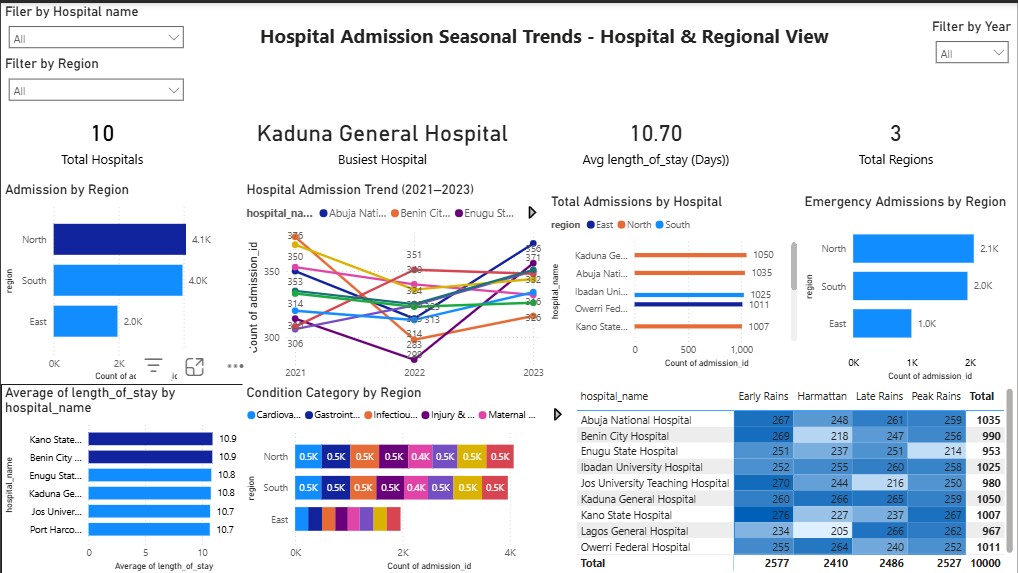

Layout of this report page (visuals, bound fields, positions):
{"tool":"powerbi","page":{"name":"HOSPITAL & REGIONAL VIEW","canvas":[1280,720],"ordinal":2},"visuals":[{"type":"textbox","box":[225.3,18.2,919.3,77.9],"z":0},{"type":"card","fields":{"Values":["hospital_admissions_dataset.Total Hospitals"]},"box":[16,131.5,224,80],"z":1000},{"type":"card","fields":{"Values":["hospital_admissions_dataset.Busiest Hospital"]},"box":[304,131.5,352,80],"z":2000},{"type":"card","fields":{"Values":["hospital_admissions_dataset.Total Regions"]},"box":[976,131.5,304,80],"z":3000},{"type":"card","fields":{"Values":["Avg(hospital_admissions_dataset.length_of_stay)"]},"box":[704,131.5,240,80],"z":4000},{"type":"clusteredBarChart","title":"Admission by Region","fields":{"Category":["hospital_admissions_dataset.region"],"Y":["CountNonNull(hospital_admissions_dataset.admission_id)"]},"box":[0,224,288,256],"z":5000},{"type":"clusteredBarChart","title":"Total Admissions  by Hospital","fields":{"Category":["hospital_admissions_dataset.hospital_name"],"Y":["CountNonNull(hospital_admissions_dataset.admission_id)"],"Series":["hospital_admissions_dataset.region"]},"box":[688,240,320,224],"z":6000},{"type":"pivotTable","fields":{"Rows":["hospital_admissions_dataset.hospital_name"],"Columns":["hospital_admissions_dataset.season"],"Values":["Count(hospital_admissions_dataset.admission_id)"]},"box":[720,480,560,240],"z":7000},{"type":"lineChart","title":"Hospital Admission Trend (2021–2023)","fields":{"Category":["hospital_admissions_dataset.year"],"Y":["CountNonNull(hospital_admissions_dataset.admission_id)"],"Series":["hospital_admissions_dataset.hospital_name"]},"box":[304,224,384,272],"z":8000},{"type":"clusteredBarChart","title":"Emergency Admissions by Region","fields":{"Category":["hospital_admissions_dataset.region"],"Y":["CountNonNull(hospital_admissions_dataset.admission_id)"]},"box":[1008,240,272,240],"z":9000},{"type":"clusteredBarChart","fields":{"Category":["hospital_admissions_dataset.hospital_name"],"Y":["Avg(hospital_admissions_dataset.length_of_stay)"]},"box":[0,480,320,240],"z":10000},{"type":"barChart","title":"Condition Category by Region","fields":{"Category":["hospital_admissions_dataset.region"],"Series":["hospital_admissions_dataset.condition_category"],"Y":["Count(hospital_admissions_dataset.admission_id)"]},"box":[304,480,416,240],"z":11000},{"type":"slicer","title":"Filter by Region","fields":{"Values":["hospital_admissions_dataset.region"]},"box":[0,66.1,240,64.3],"z":12000},{"type":"slicer","title":"Filter by Year","fields":{"Values":["hospital_admissions_dataset.year"]},"box":[1167.9,18.9,111.5,77.5],"z":13000},{"type":"slicer","title":"Filer by Hospital name","fields":{"Values":["hospital_admissions_dataset.hospital_name"]},"box":[0,0,240,64.3],"z":14000}]}

Visuals, with their boxes in screenshot pixels (x1, y1, x2, y2), scaled from the page's 1280x720 canvas onto the 1018x573 screenshot:
textbox: pyautogui.locateOnScreen(179, 14, 910, 76)
card - hospital_admissions_dataset.Total Hospitals: pyautogui.locateOnScreen(13, 105, 191, 168)
card - hospital_admissions_dataset.Busiest Hospital: pyautogui.locateOnScreen(242, 105, 522, 168)
card - hospital_admissions_dataset.Total Regions: pyautogui.locateOnScreen(776, 105, 1017, 168)
card - Avg(hospital_admissions_dataset.length_of_stay): pyautogui.locateOnScreen(560, 105, 751, 168)
"Admission by Region" clusteredBarChart: pyautogui.locateOnScreen(0, 178, 229, 382)
"Total Admissions  by Hospital" clusteredBarChart: pyautogui.locateOnScreen(547, 191, 802, 369)
pivotTable - hospital_admissions_dataset.hospital_name x hospital_admissions_dataset.season: pyautogui.locateOnScreen(573, 382, 1017, 572)
"Hospital Admission Trend (2021–2023)" lineChart: pyautogui.locateOnScreen(242, 178, 547, 395)
"Emergency Admissions by Region" clusteredBarChart: pyautogui.locateOnScreen(802, 191, 1017, 382)
clusteredBarChart - hospital_admissions_dataset.hospital_name x Avg(hospital_admissions_dataset.length_of_stay): pyautogui.locateOnScreen(0, 382, 254, 572)
"Condition Category by Region" barChart: pyautogui.locateOnScreen(242, 382, 573, 572)
"Filter by Region" slicer: pyautogui.locateOnScreen(0, 53, 191, 104)
"Filter by Year" slicer: pyautogui.locateOnScreen(929, 15, 1017, 77)
"Filer by Hospital name" slicer: pyautogui.locateOnScreen(0, 0, 191, 51)
